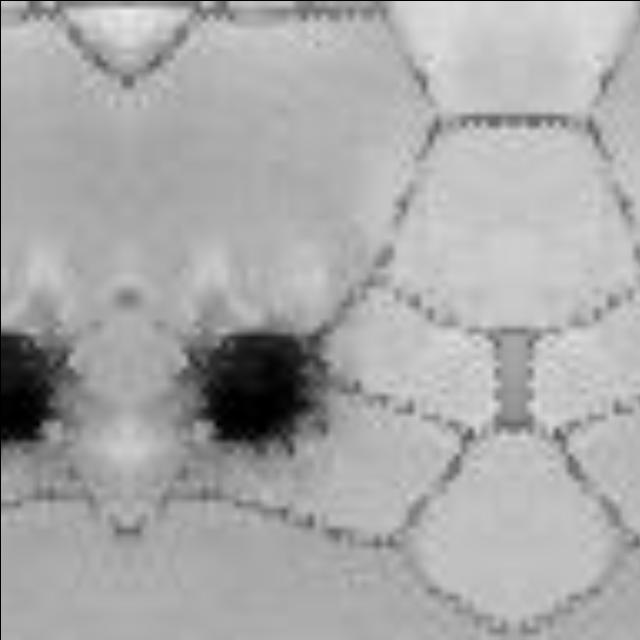good_void: (175, 320, 338, 460), (0, 320, 77, 460)
